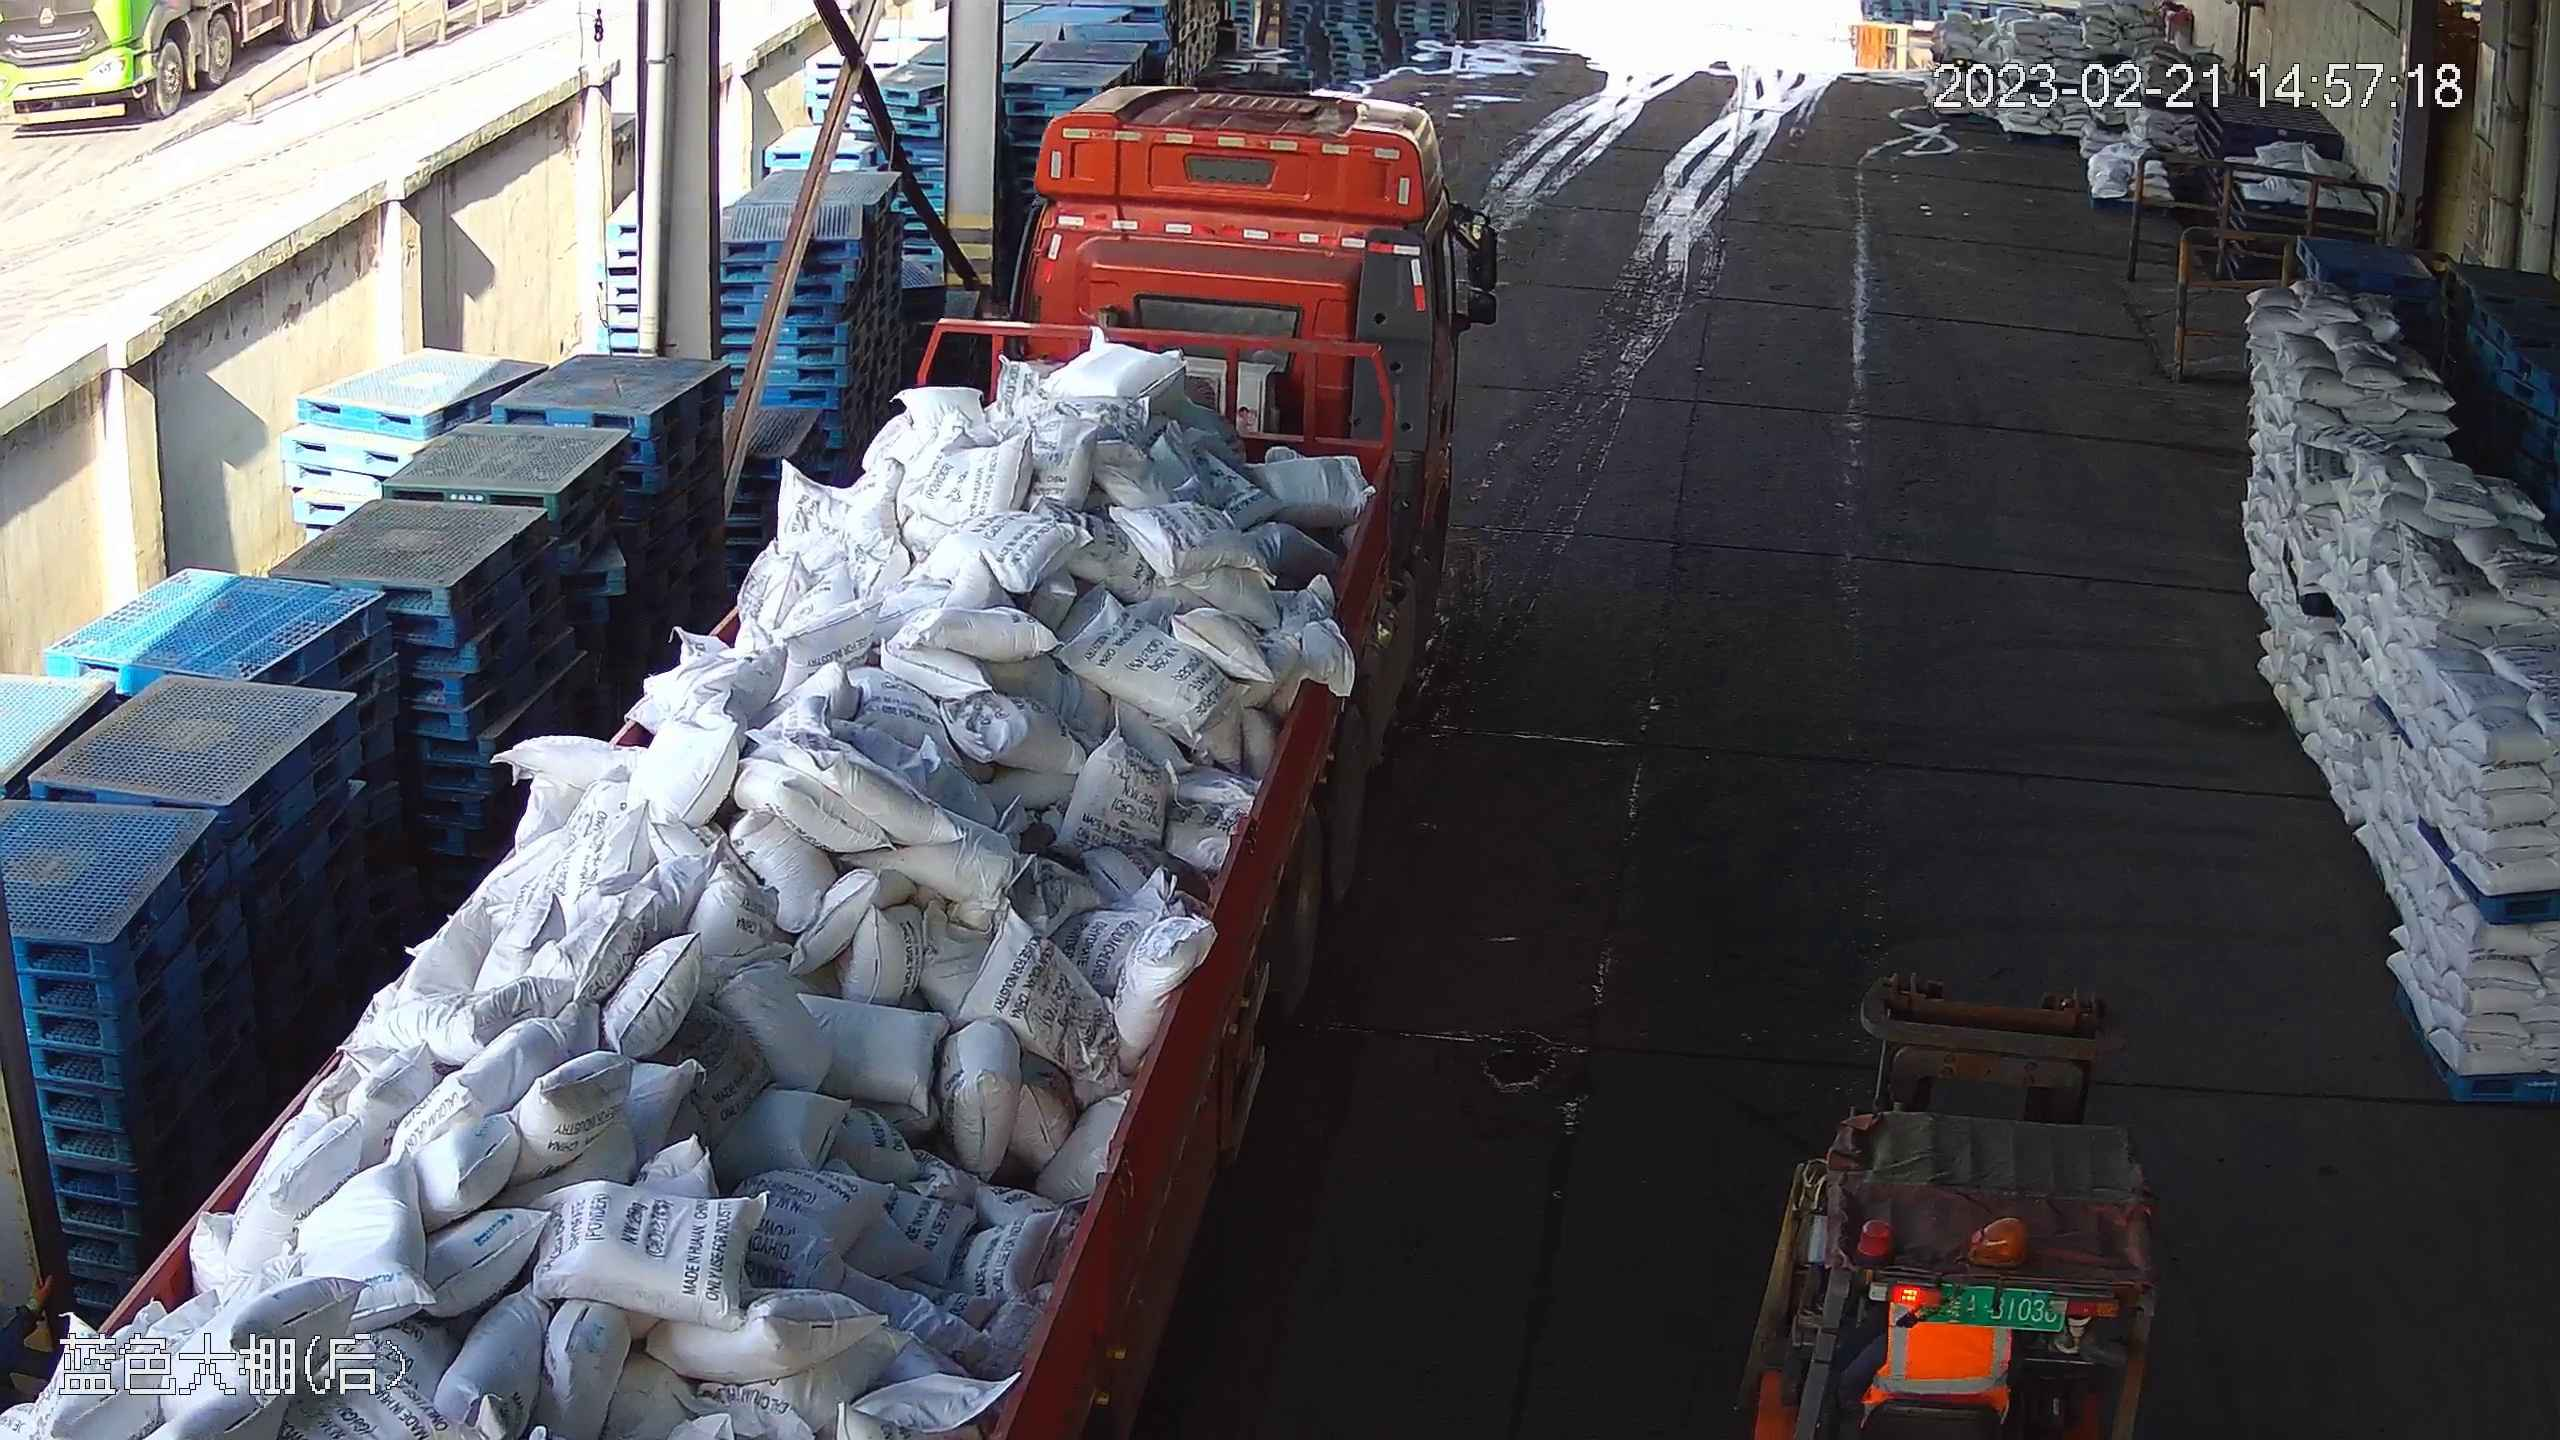truck: (2, 83, 1479, 1440)
